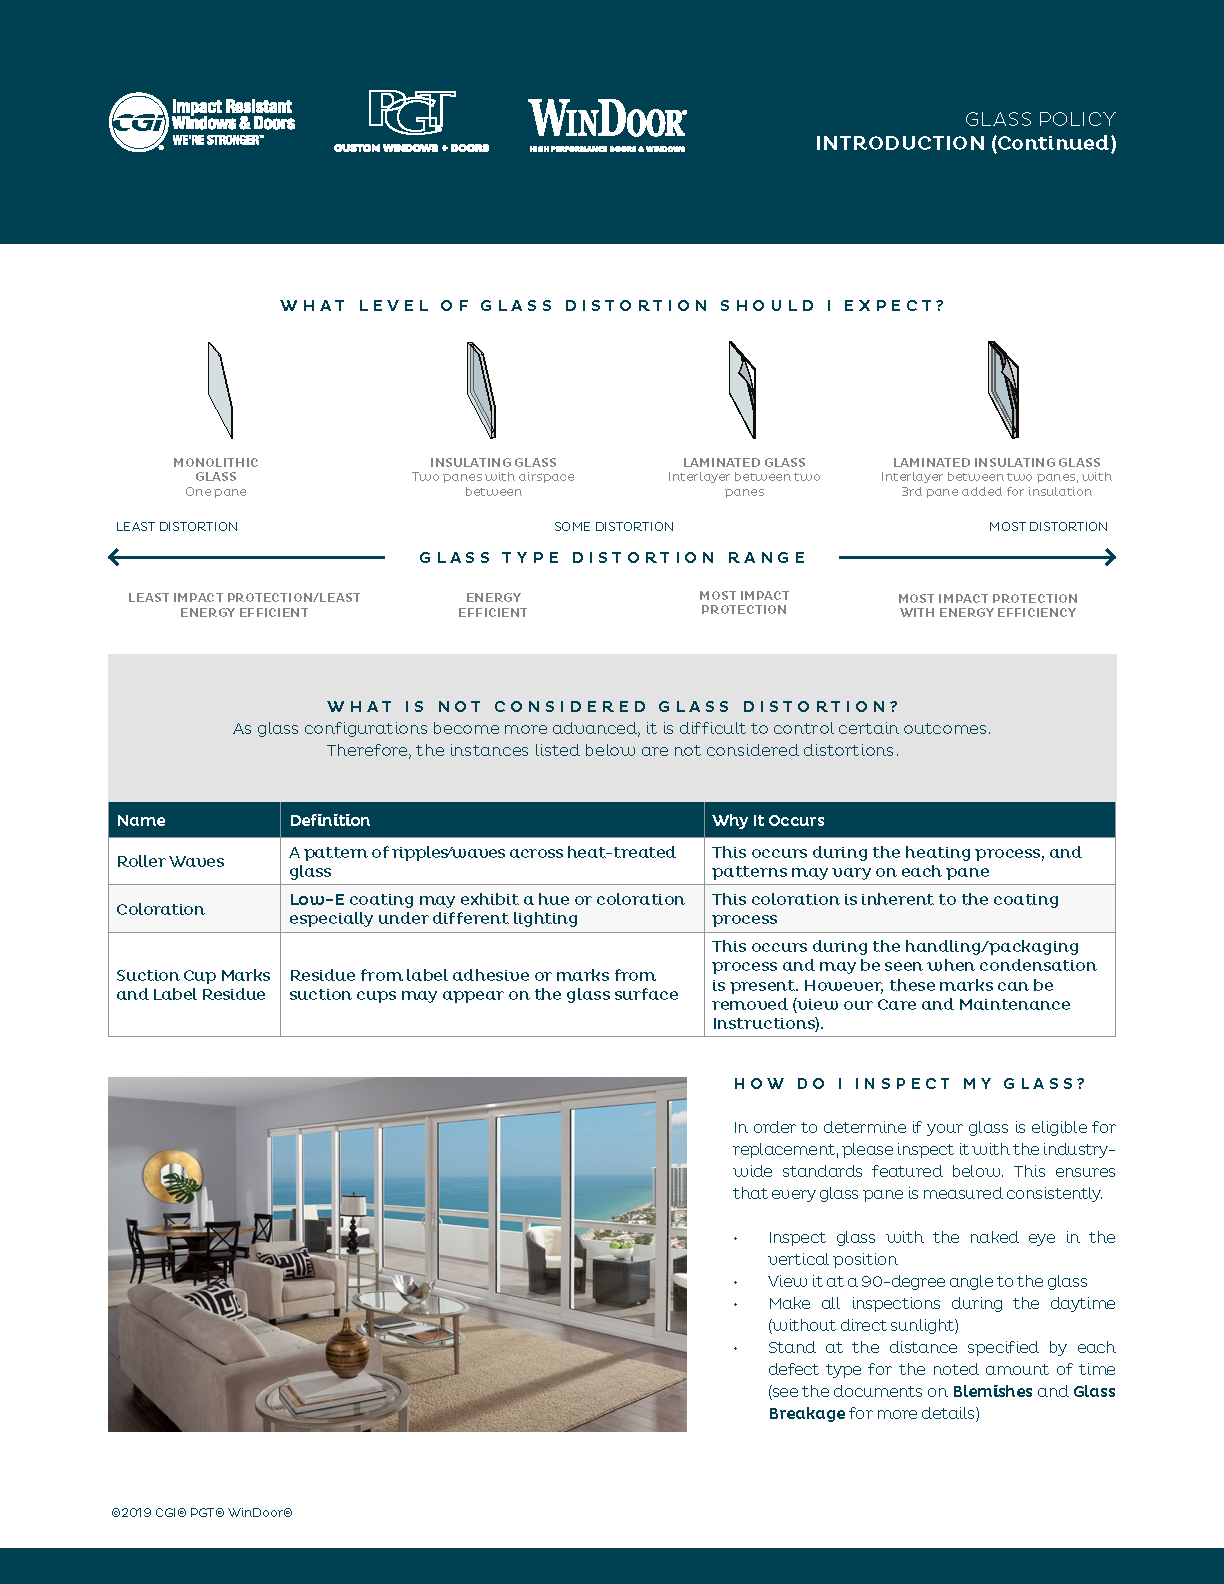tabledetected: (111, 801, 1116, 1035)
